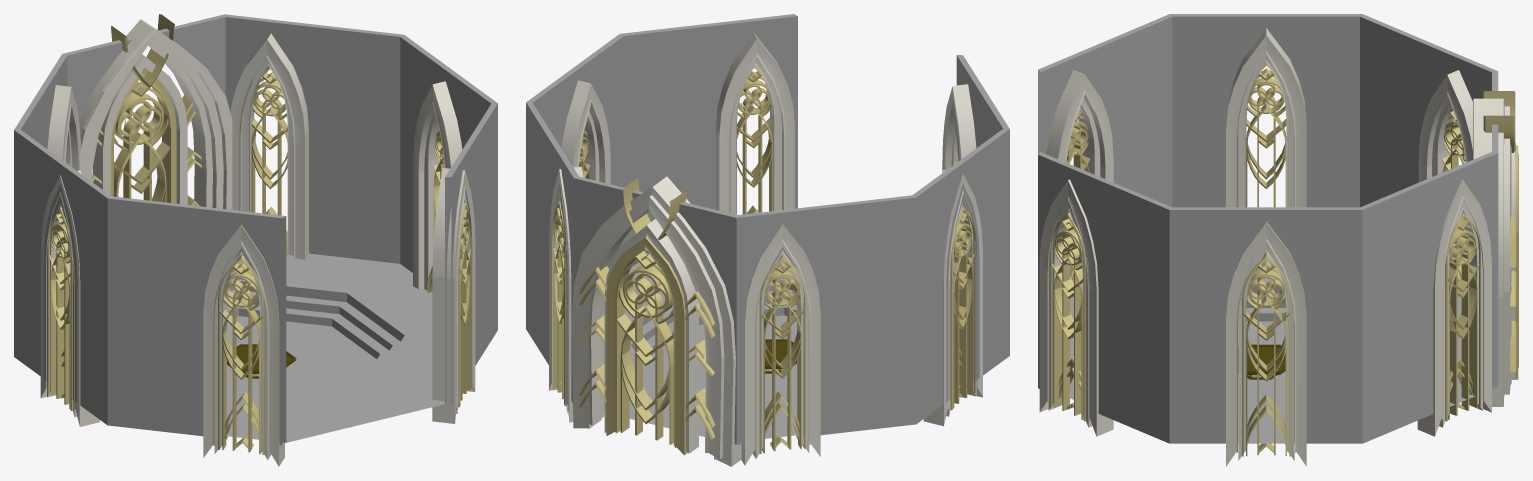
File: ArcaneGambit_RoomRough.fbx
3 renders of one model, left to right at view 1: azimuth 30°, elevation 25°; view 2: azimuth 150°, elevation 25°; view 3: azimuth 270°, elevation 25°, orthographic. The views are drawn at different scales.
Parts seen in each view (by area): view 1: polySurface493, WindowAccent6, WindowAccent2, WindowAccent5, WindowAccent3, polySurface523, WindowAccent4, polySurface497, polySurface495, WindowAccent, polySurface502, polySurface496 (+5 smaller); view 2: polySurface493, WindowAccent, WindowAccent5, polySurface495, WindowAccent3, polySurface502, polySurface523, WindowAccent2, polySurface497, WindowAccent4, WindowAccent6, polySurface498 (+7 smaller); view 3: polySurface493, WindowAccent4, WindowAccent5, WindowAccent2, WindowAccent3, WindowAccent6, WindowAccent, polySurface523, polySurface495, polySurface496, PokerTable, polySurface502.
Boxes of the visible parts, x1=… form: polySurface493: x1=14, y1=14, x2=497, y2=445; WindowAccent6: x1=203, y1=225, x2=284, y2=466; WindowAccent2: x1=230, y1=33, x2=308, y2=259; WindowAccent5: x1=432, y1=168, x2=475, y2=423; WindowAccent3: x1=40, y1=170, x2=99, y2=426; polySurface523: x1=79, y1=19, x2=232, y2=209; WindowAccent4: x1=413, y1=81, x2=462, y2=292; polySurface497: x1=93, y1=54, x2=187, y2=204; polySurface495: x1=90, y1=40, x2=212, y2=207; WindowAccent: x1=47, y1=85, x2=80, y2=170; polySurface502: x1=110, y1=67, x2=176, y2=203; polySurface496: x1=111, y1=14, x2=174, y2=87; polySurface493: x1=526, y1=14, x2=1009, y2=444; WindowAccent: x1=741, y1=224, x2=820, y2=465; WindowAccent5: x1=715, y1=32, x2=794, y2=214; polySurface495: x1=577, y1=195, x2=724, y2=459; WindowAccent3: x1=923, y1=169, x2=982, y2=426; polySurface502: x1=606, y1=236, x2=687, y2=455; polySurface523: x1=571, y1=176, x2=741, y2=466; WindowAccent2: x1=549, y1=166, x2=583, y2=422; polySurface497: x1=604, y1=219, x2=698, y2=453; WindowAccent4: x1=561, y1=80, x2=610, y2=183; WindowAccent6: x1=942, y1=84, x2=976, y2=171; polySurface498: x1=635, y1=293, x2=663, y2=440; polySurface493: x1=1038, y1=14, x2=1498, y2=443; WindowAccent4: x1=1226, y1=221, x2=1306, y2=466; WindowAccent5: x1=1039, y1=179, x2=1113, y2=436; WindowAccent2: x1=1417, y1=179, x2=1491, y2=436; WindowAccent3: x1=1226, y1=28, x2=1306, y2=207; WindowAccent6: x1=1046, y1=70, x2=1113, y2=282; WindowAccent: x1=1418, y1=70, x2=1472, y2=282; polySurface523: x1=1473, y1=98, x2=1504, y2=406; polySurface495: x1=1504, y1=106, x2=1511, y2=394; polySurface496: x1=1483, y1=91, x2=1515, y2=152; PokerTable: x1=1238, y1=344, x2=1285, y2=379; polySurface502: x1=1515, y1=145, x2=1518, y2=379.
Size of the model in its own units: 118 by 75.99 by 121.
